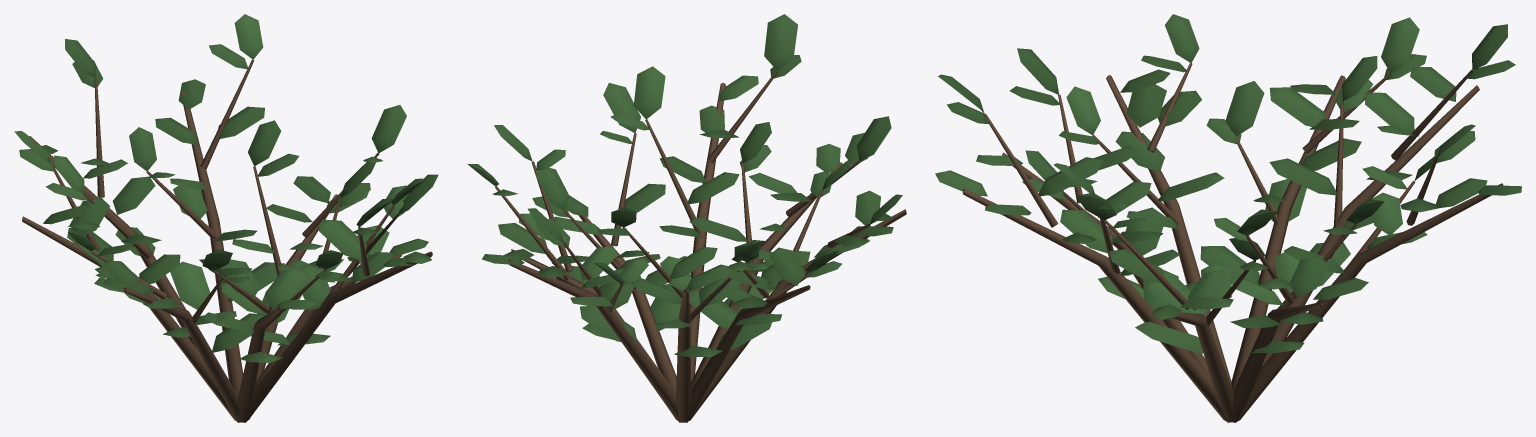
The model's file is wild_boxwood.glb.
3 renders of one model, left to right at view 1: azimuth 30°, elevation 25°; view 2: azimuth 150°, elevation 25°; view 3: azimuth 270°, elevation 25°, orthographic. The views are drawn at different scales.
Visible parts, largest first — view 1: wild_boxwood; view 2: wild_boxwood; view 3: wild_boxwood.
Boxes of the visible parts, left/top/right/bottom form: wild_boxwood: left=14, top=14, right=438, bottom=422; wild_boxwood: left=467, top=14, right=906, bottom=422; wild_boxwood: left=935, top=14, right=1521, bottom=422.
Size of the model in its own units: 1.12 by 0.9074 by 1.33.
